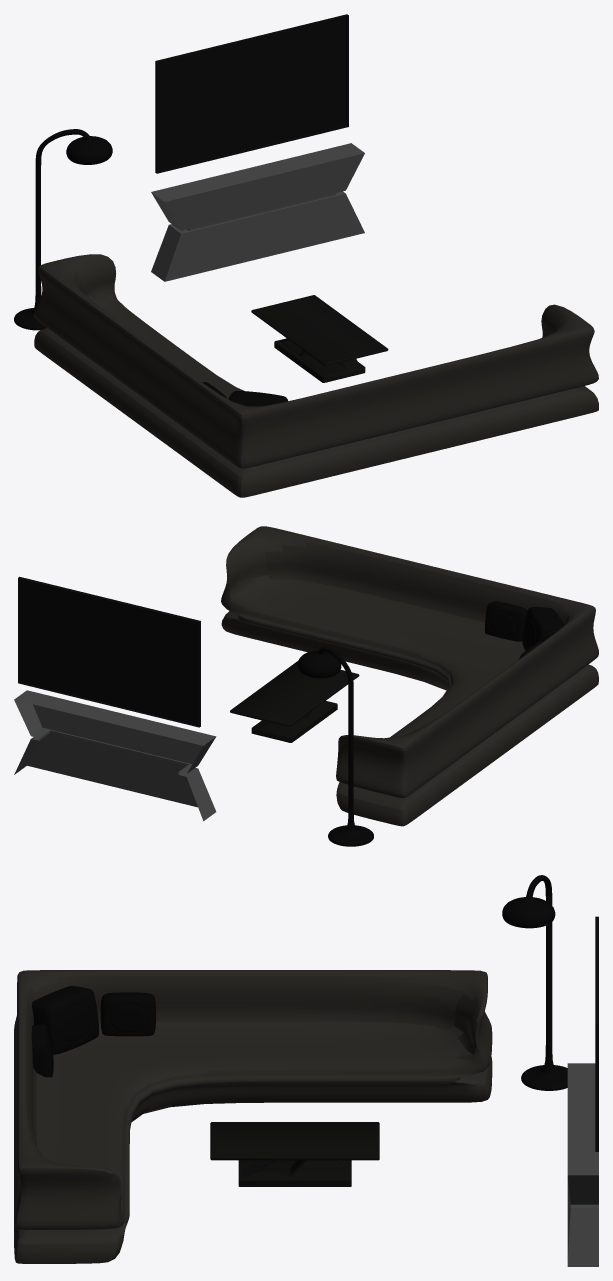
The model's file is room.glb.
3 views of the same model, one above another, from view 1: azimuth 30°, elevation 25°; view 2: azimuth 150°, elevation 25°; view 3: azimuth 270°, elevation 25° (orthographic). The views are drawn at different scales.
Visible parts, largest first — view 1: Sofa, TV, TVStand, CoffeeTable, Lamp, Pillows; view 2: Sofa, TV, TVStand, CoffeeTable, Lamp, Pillows; view 3: Sofa, CoffeeTable, Pillows, TVStand, Lamp, TV.
Part boxes in pixels (x1=…): Sofa: x1=34, y1=254, x2=598, y2=497; TV: x1=155, y1=14, x2=348, y2=173; TVStand: x1=151, y1=143, x2=364, y2=281; CoffeeTable: x1=251, y1=295, x2=388, y2=382; Lamp: x1=14, y1=129, x2=112, y2=330; Pillows: x1=202, y1=382, x2=287, y2=406; Sofa: x1=221, y1=526, x2=598, y2=826; TV: x1=18, y1=576, x2=200, y2=727; TVStand: x1=14, y1=690, x2=216, y2=821; CoffeeTable: x1=230, y1=660, x2=359, y2=742; Lamp: x1=297, y1=646, x2=373, y2=846; Pillows: x1=484, y1=601, x2=564, y2=658; Sofa: x1=14, y1=970, x2=492, y2=1263; CoffeeTable: x1=210, y1=1122, x2=379, y2=1186; Pillows: x1=31, y1=986, x2=155, y2=1077; TVStand: x1=567, y1=1063, x2=598, y2=1266; Lamp: x1=502, y1=875, x2=567, y2=1090; TV: x1=595, y1=916, x2=598, y2=1151.
Bounding box in the file's own units: 3.93 × 2.15 × 4.74.
6 materials, 6 textured.
